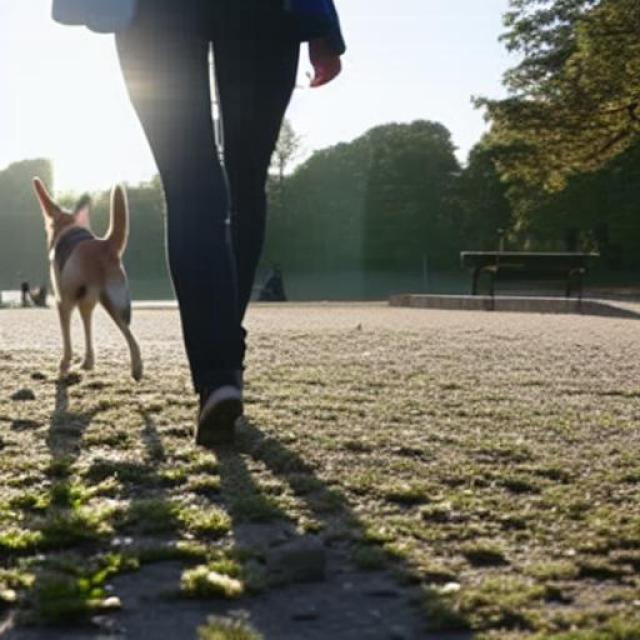Unleashed_Dog: (32, 26, 276, 384)
